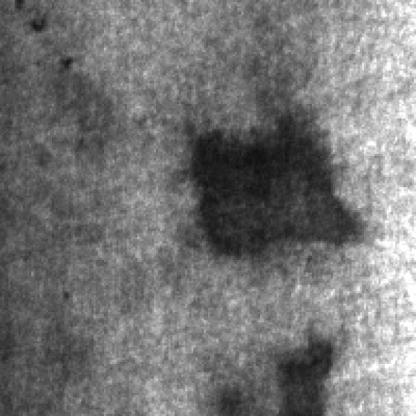patches: (179, 108, 362, 258), (266, 324, 344, 414)
